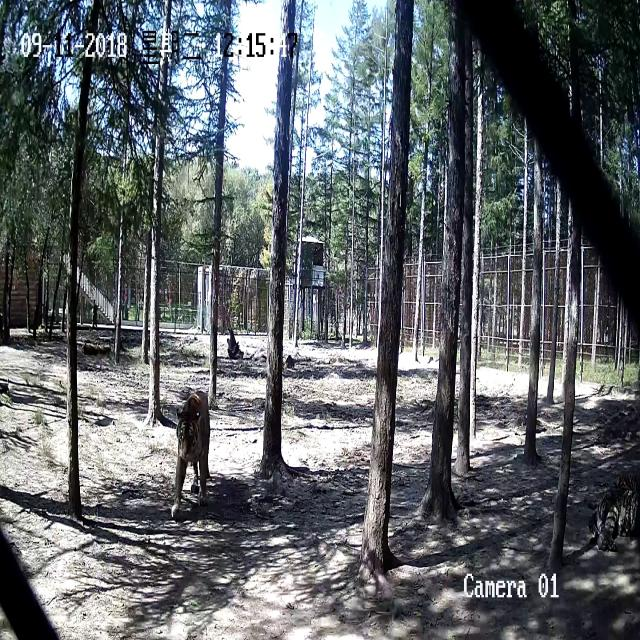Tiger: (160, 377, 219, 519)
